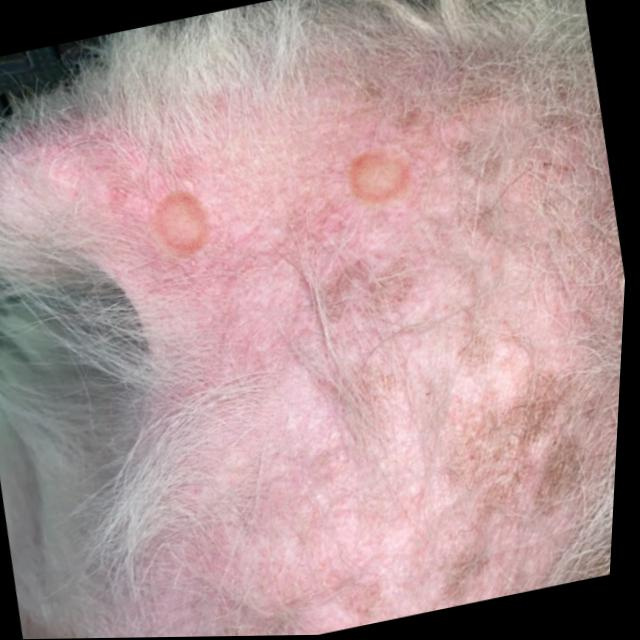ringworm: (149, 166, 235, 275), (341, 134, 425, 215)
